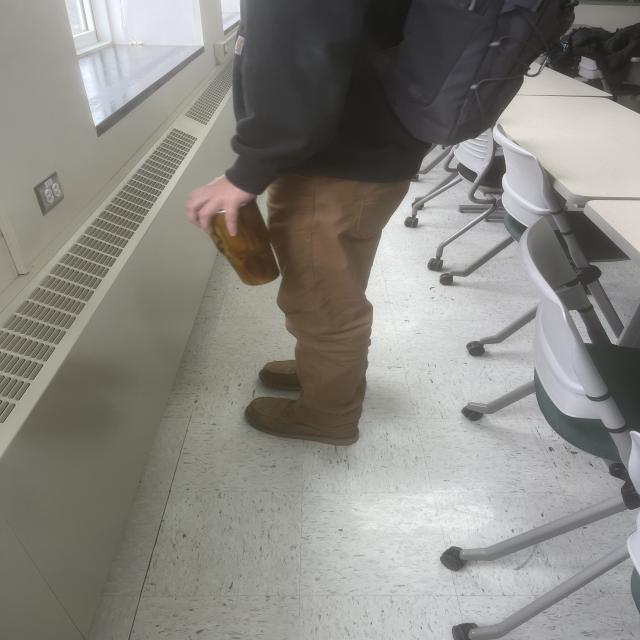Boots: (240, 352, 374, 446)
